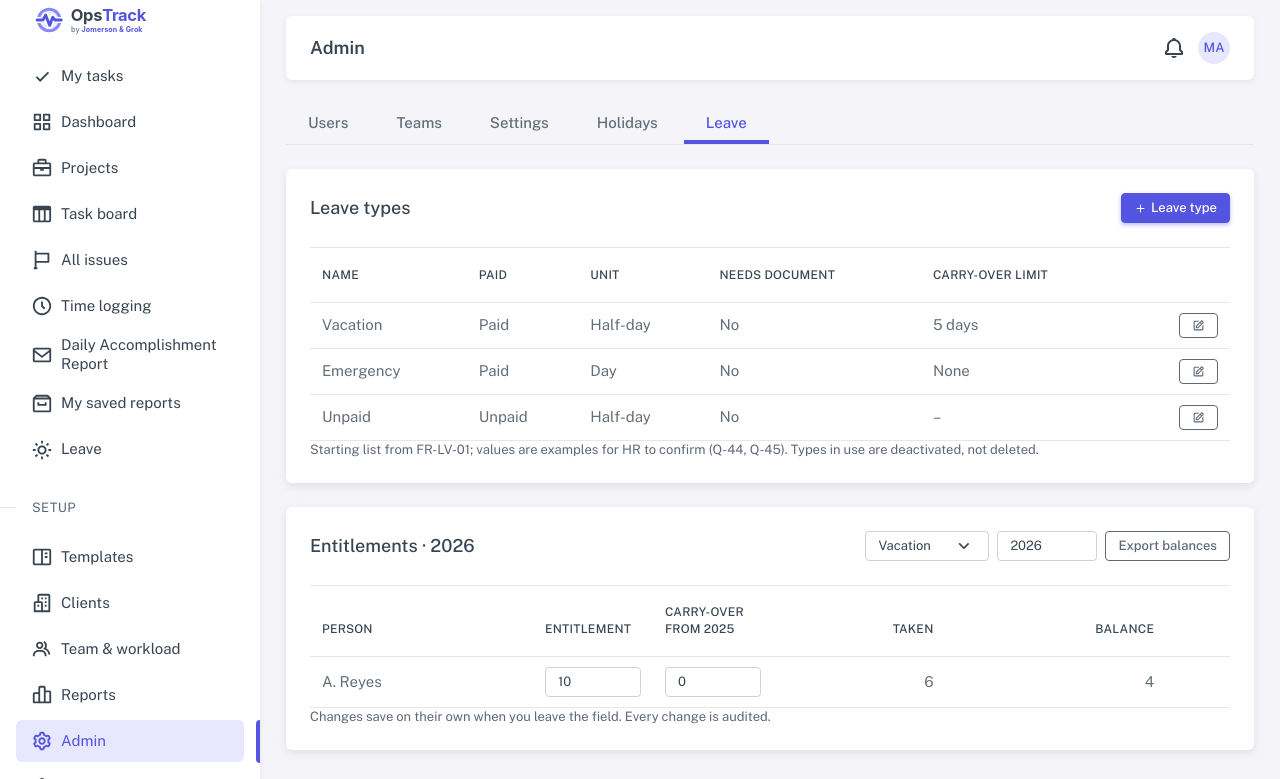
Test: TC-S07: Admin entitlements › saves an entitlement below what is taken and shows the warning
The image size is (1280, 779).
Expected: the heading "Leave types" is shown, x1=310 y1=194 x2=410 y2=222
Expected: the text "Emergency" reads "Emergency Paid Day No None", x1=310 y1=348 x2=1230 y2=394
Step 1. Replace the text in the number field named "A. Reyes entitlement" with "4" → (593, 682), box x1=545 y1=667 x2=641 y2=697
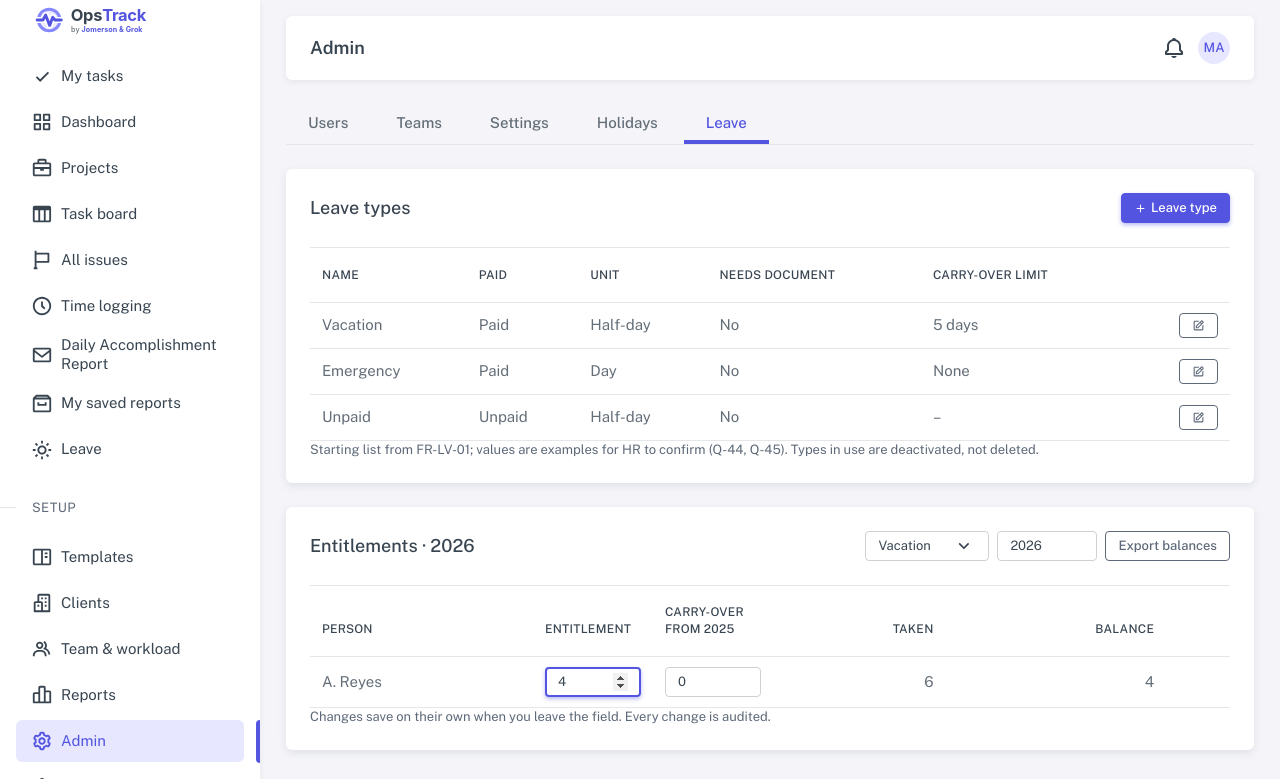
Step 2. Press Tab
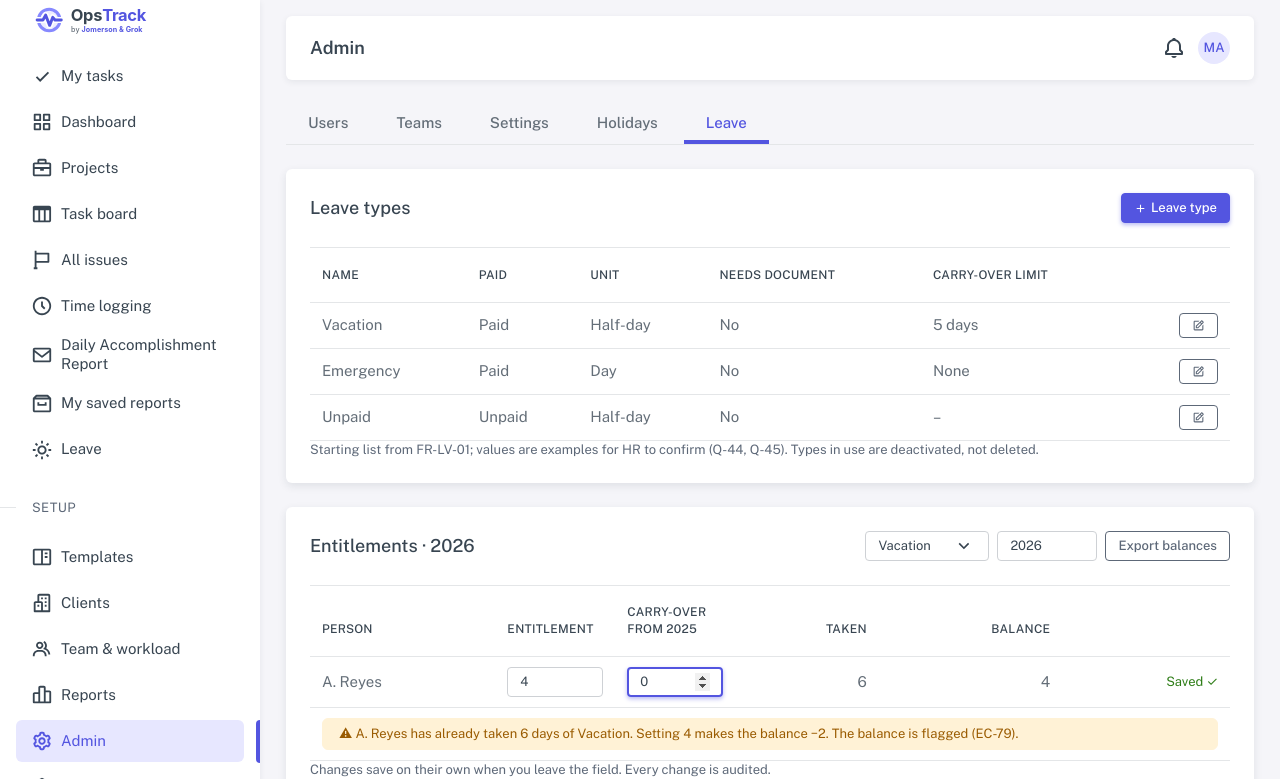
Expected: the text "Saved ✓" is shown, x1=1166 y1=674 x2=1218 y2=689
Expected: the text "A. Reyes has already taken 6 days of Vacation. Setting 4 makes the balance −2" is shown, x1=339 y1=726 x2=1018 y2=741
